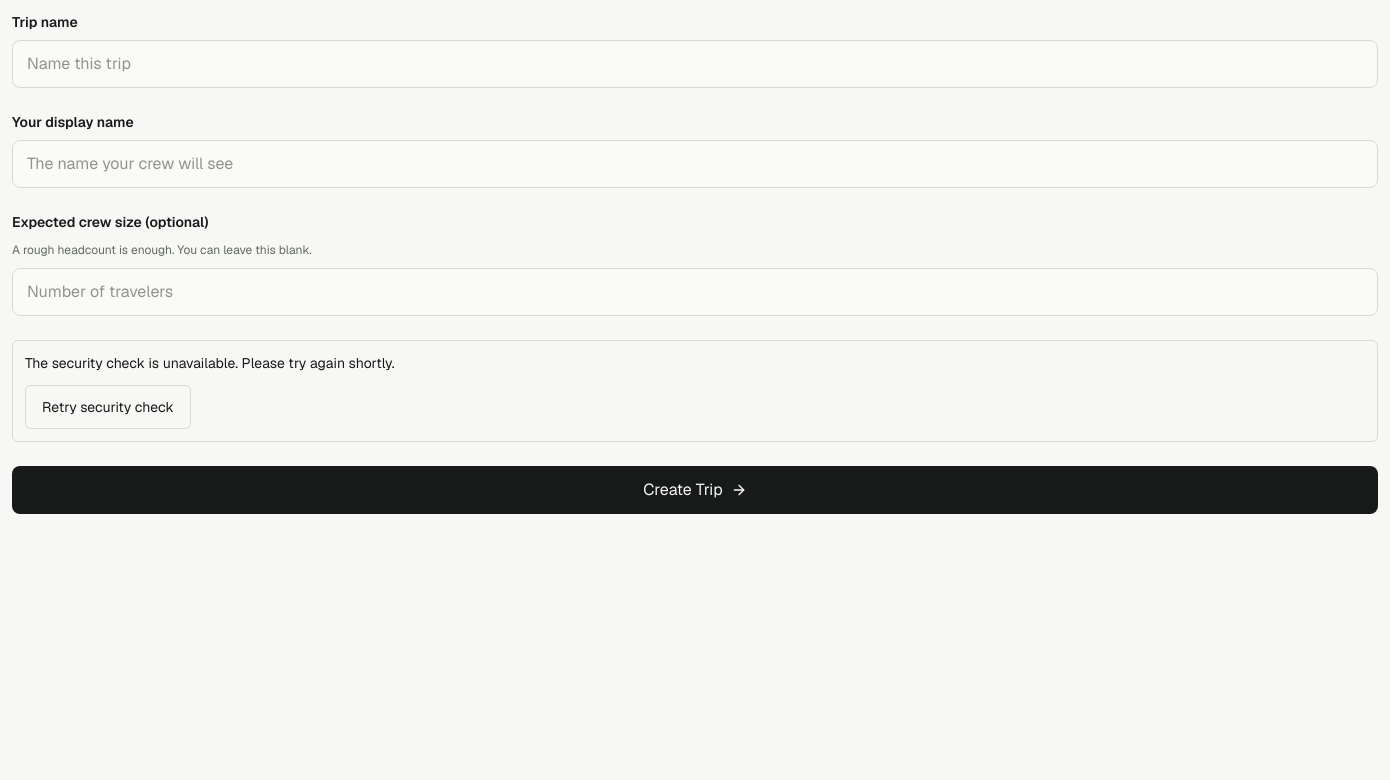
Test case: CreateTripForm › validates the expected traveler range
Type "Boundary Waters" into the field labelled "Trip name" at (695, 64), box [12, 40, 1378, 88]
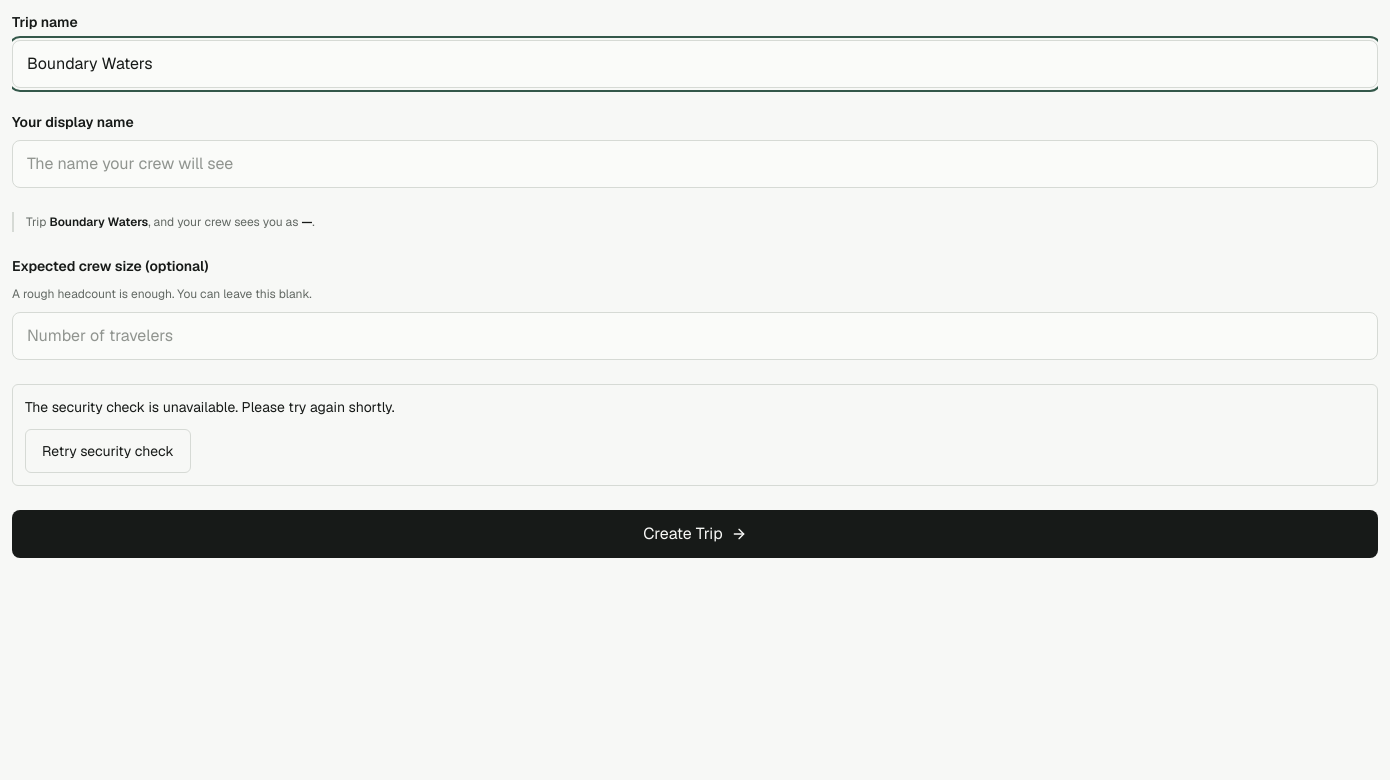
Type "Maya" into the field labelled "Your display name" at (695, 164), box [12, 140, 1378, 188]
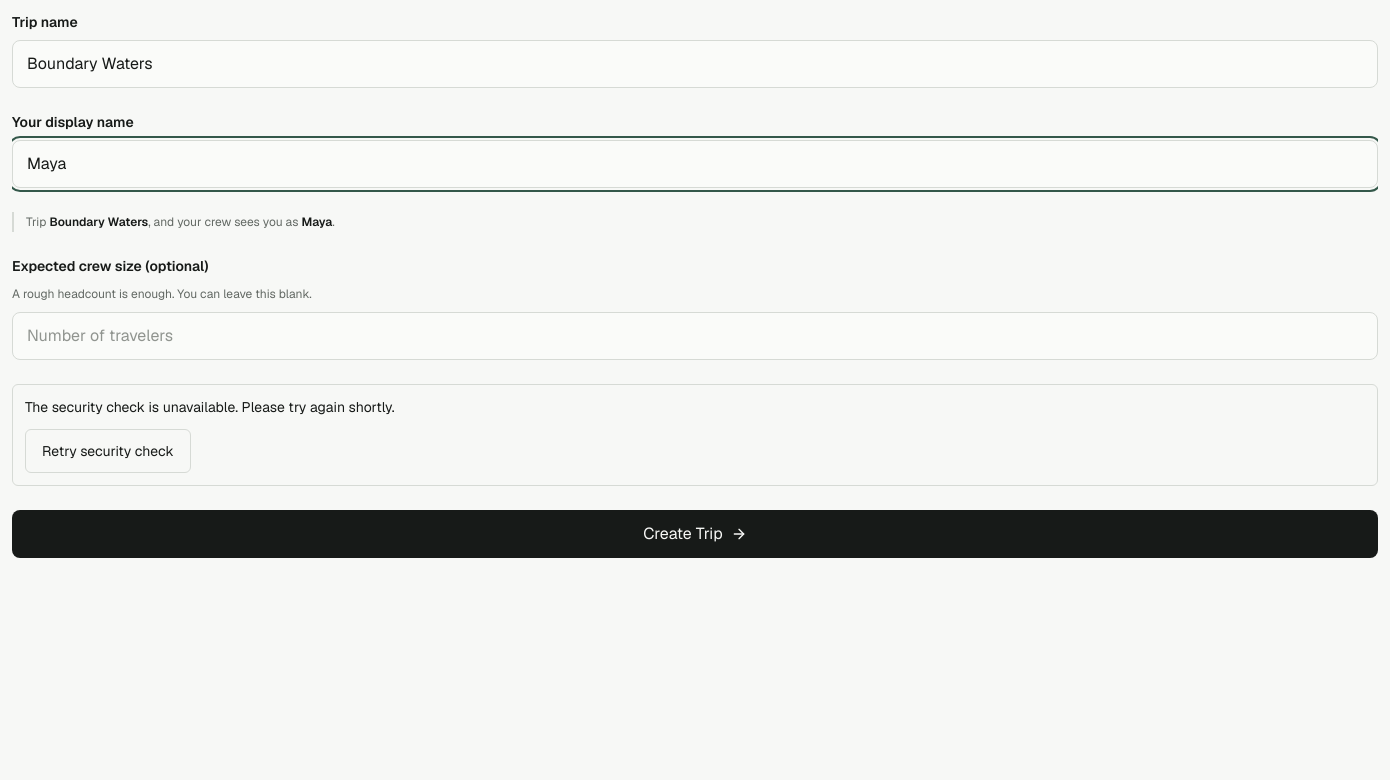
Type "51" into the number field labelled "Expected crew size (optional)" at (695, 336), box [12, 312, 1378, 360]
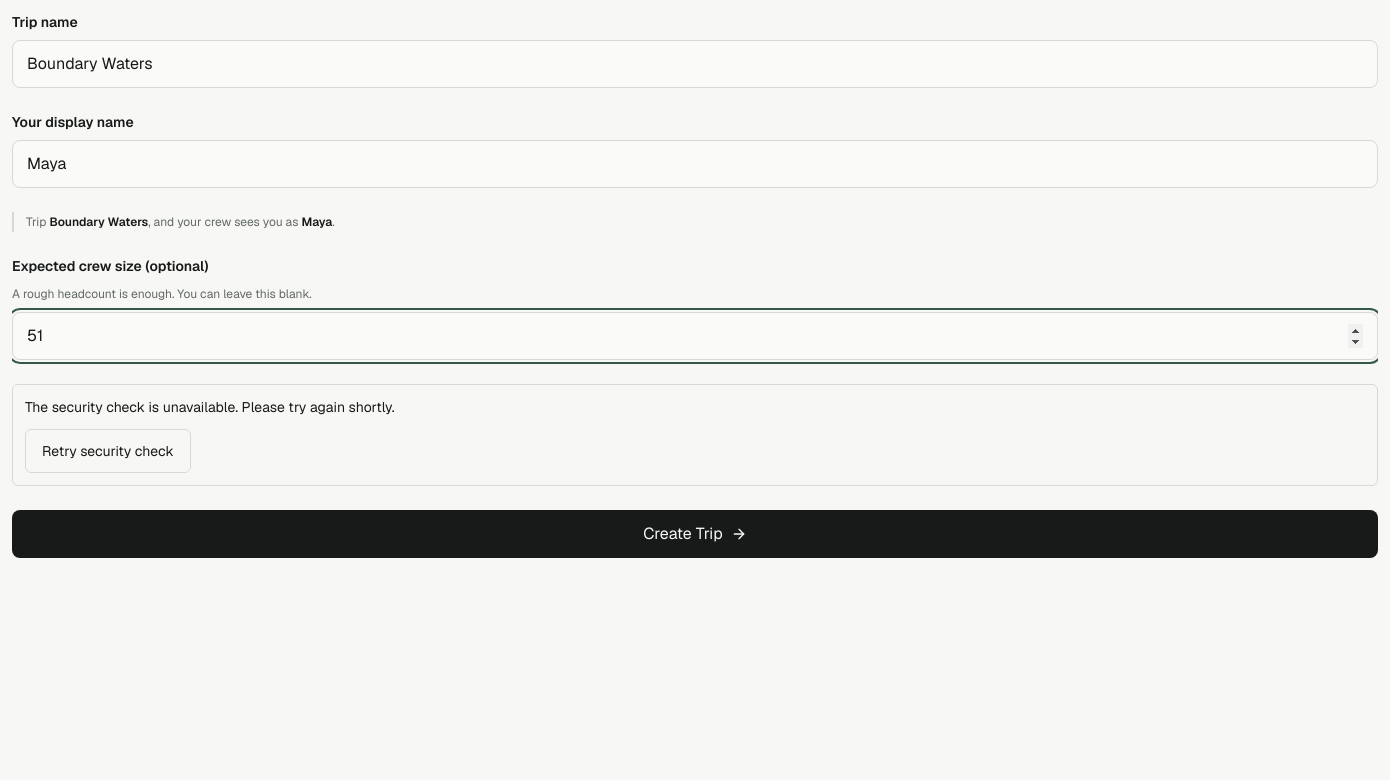
Click the button "Create Trip" at (695, 534), box [12, 510, 1378, 558]
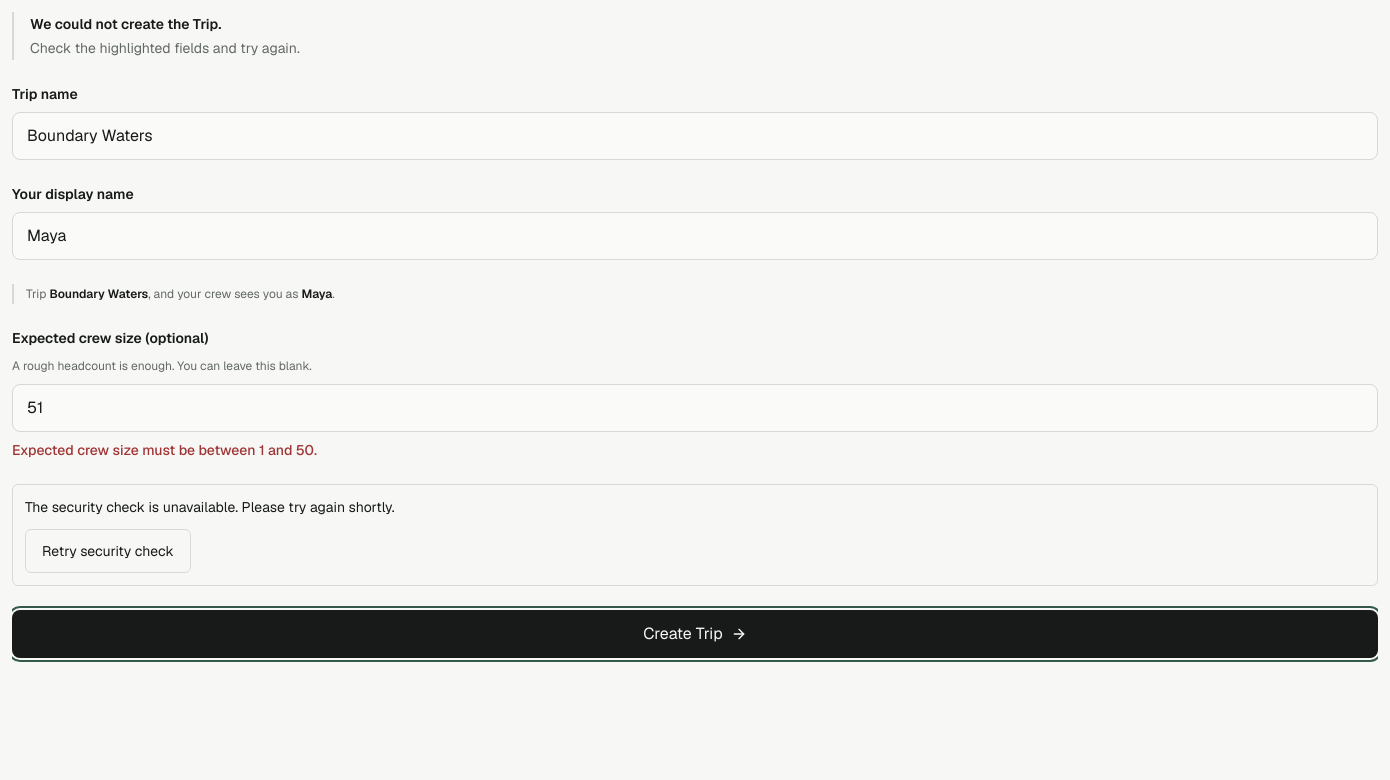
Expected: the text "Expected crew size must be between 1 and 50." is shown, [12, 441, 317, 459]
